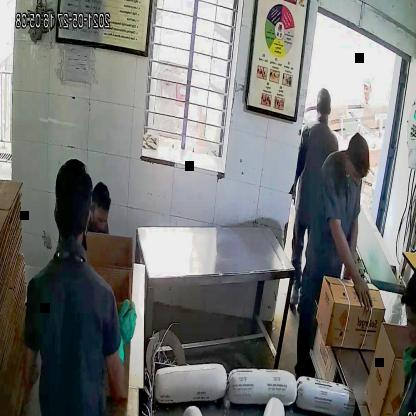no_goggles: (342, 165, 367, 189)
